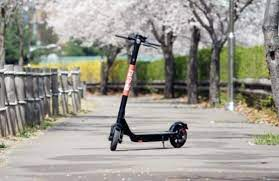kick_board: (109, 34, 188, 150)
kick_body: (133, 131, 168, 140)
kick_handler: (116, 32, 162, 48)
kick_neck: (119, 50, 138, 121)
kick_wheel: (170, 123, 187, 148), (110, 125, 120, 150)
